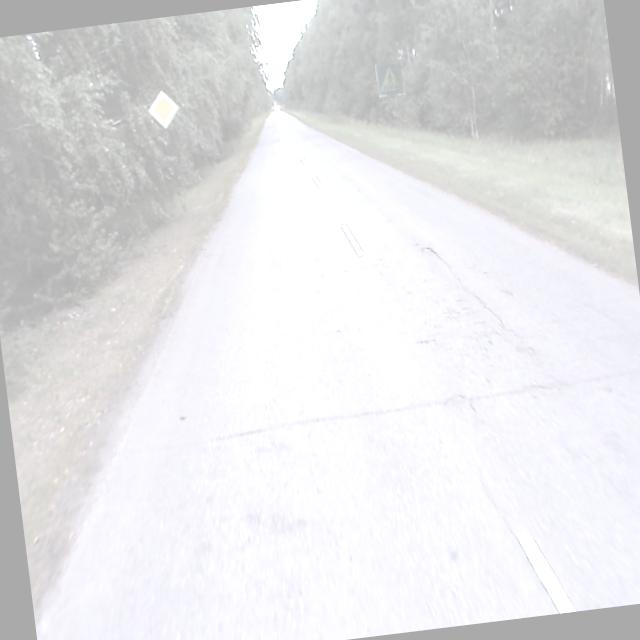road: (36, 111, 640, 640)
